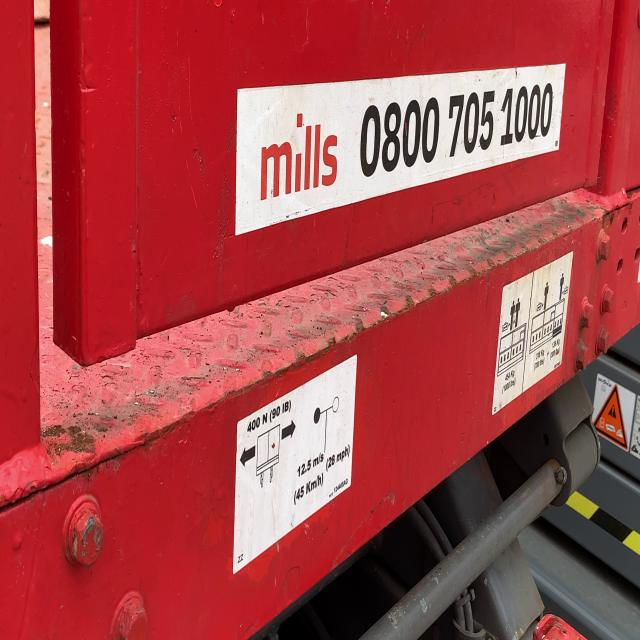Adesivo Longo: (232, 61, 569, 242)
